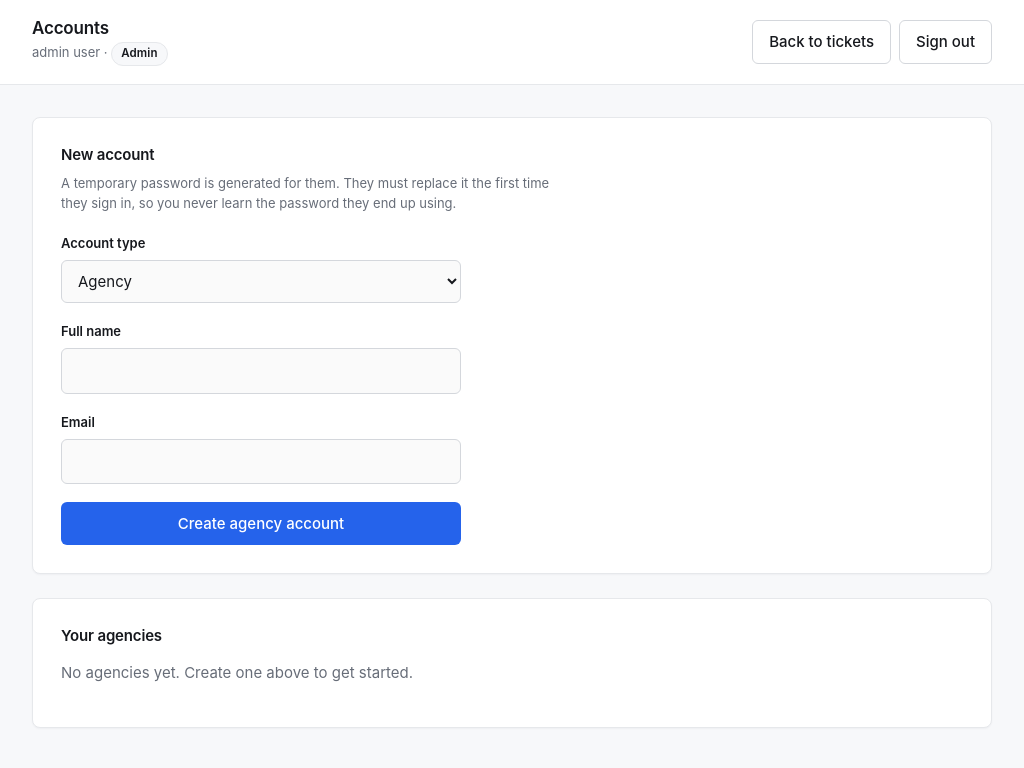
Test case: account creation › handing the credentials over › says so rather than lying when the clipboard is unavailable
Expected: the heading "New account" is shown, [61,145,154,164]
Type "New Agency" into the field labelled "Full name" at (261, 371), box [61,348,461,394]
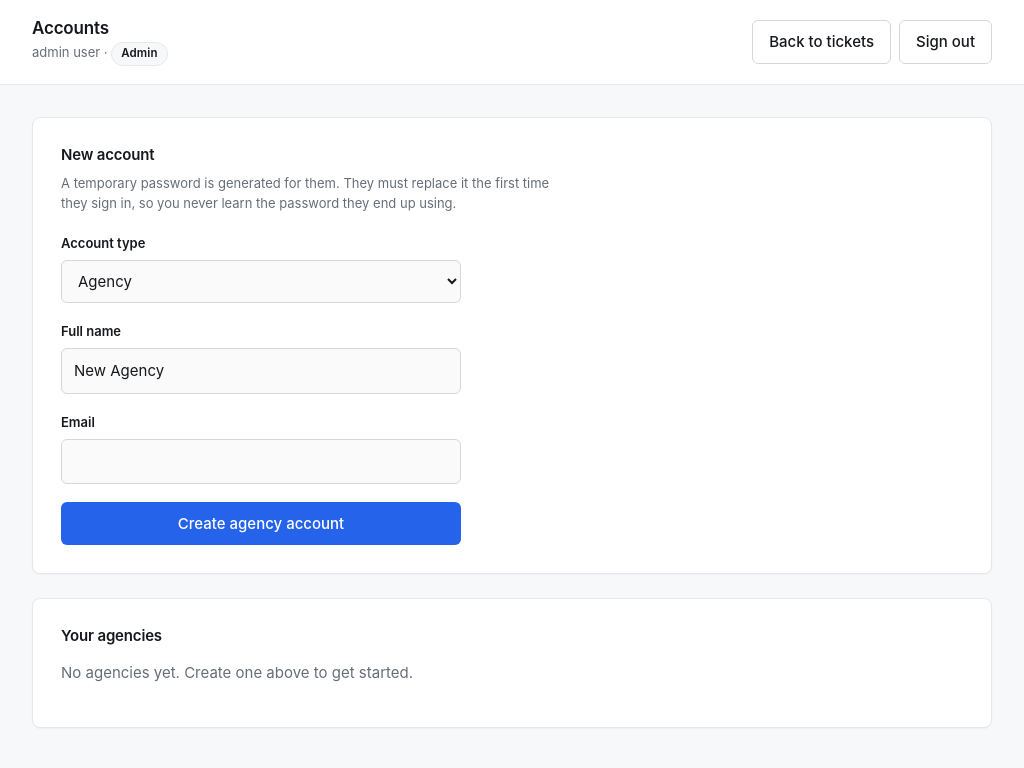
Type "new@agency.com" into the field labelled "Email" at (261, 461), box [61,439,461,484]
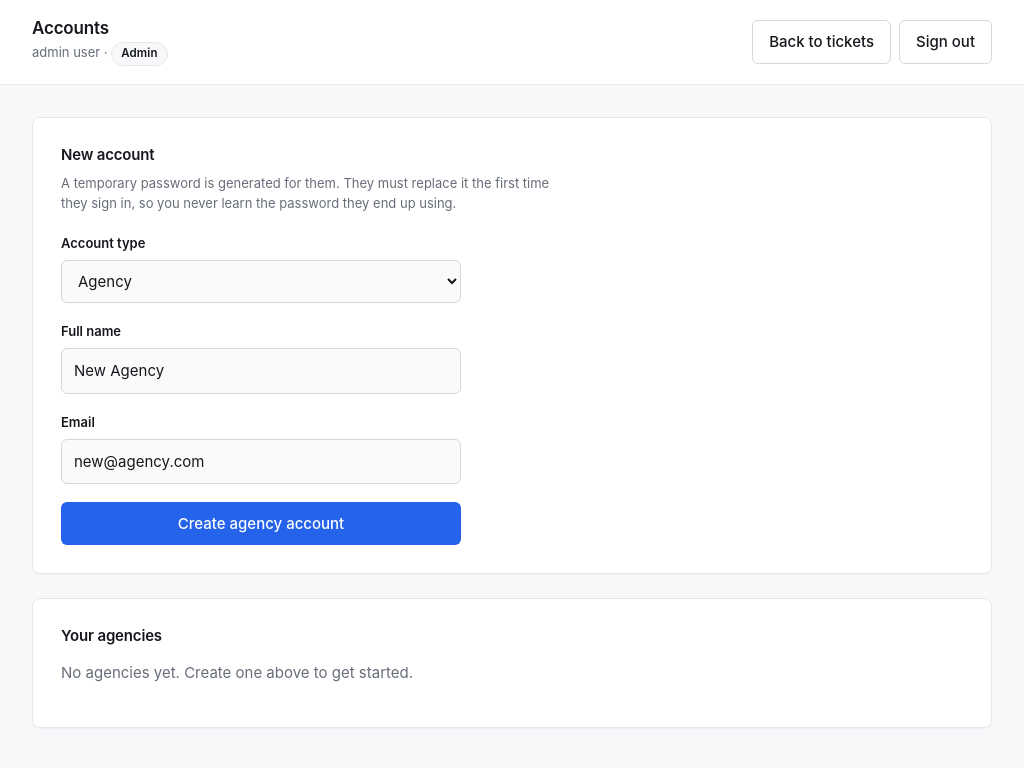
Click the button "Create agency account" at (261, 524), box [61,502,461,545]
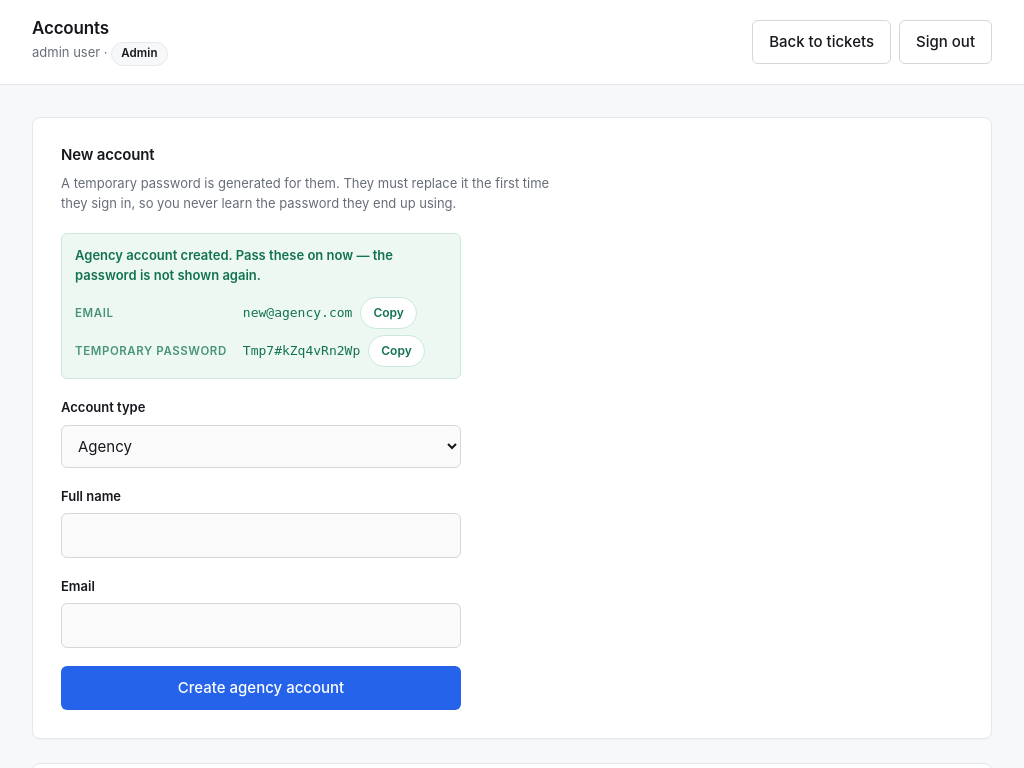
Click the button named "copy temporary password" at (396, 351), box [368,335,425,367]
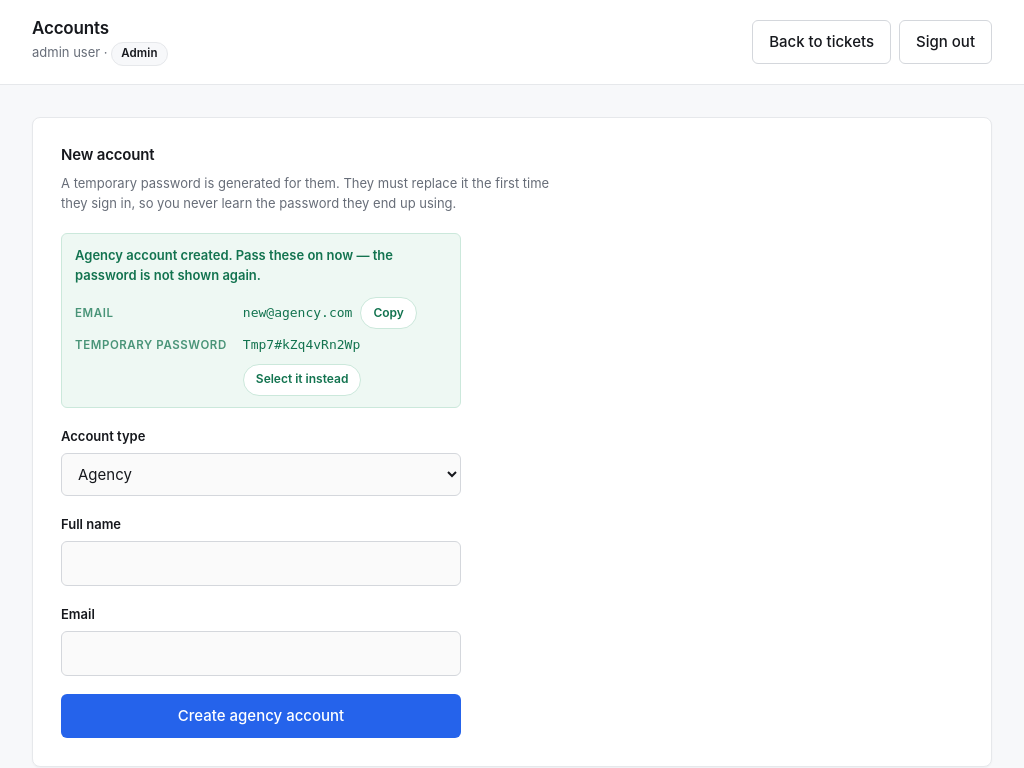
Now the text "Tmp7#kZq4vRn2Wp" is shown, box [243,335,360,356]
Now the button "Select it instead" is shown, box [243,364,361,396]
